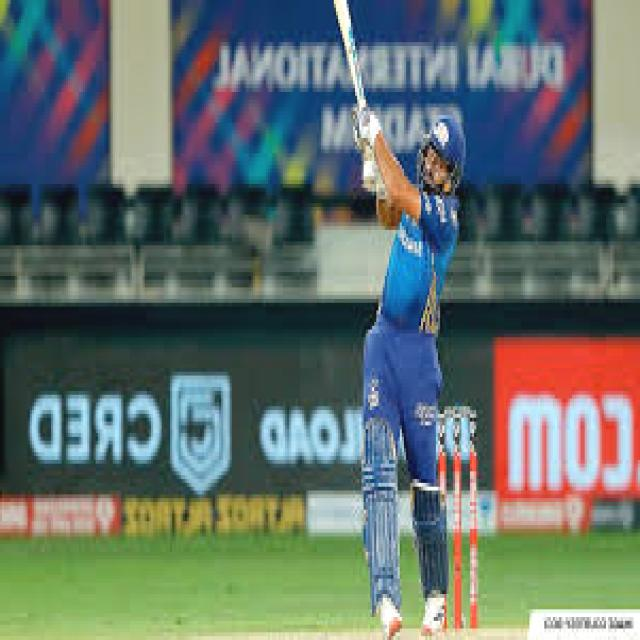toe: (331, 0, 351, 11)
